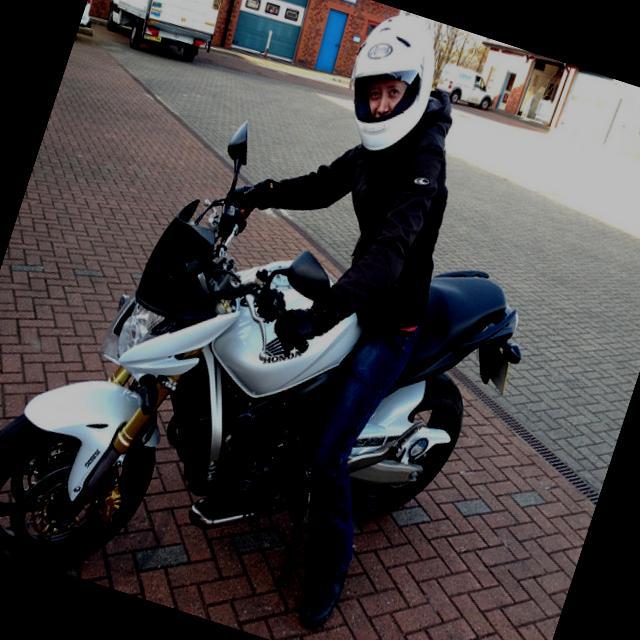Vehicle: (0, 68, 559, 640), (97, 0, 238, 63), (432, 61, 500, 116)
